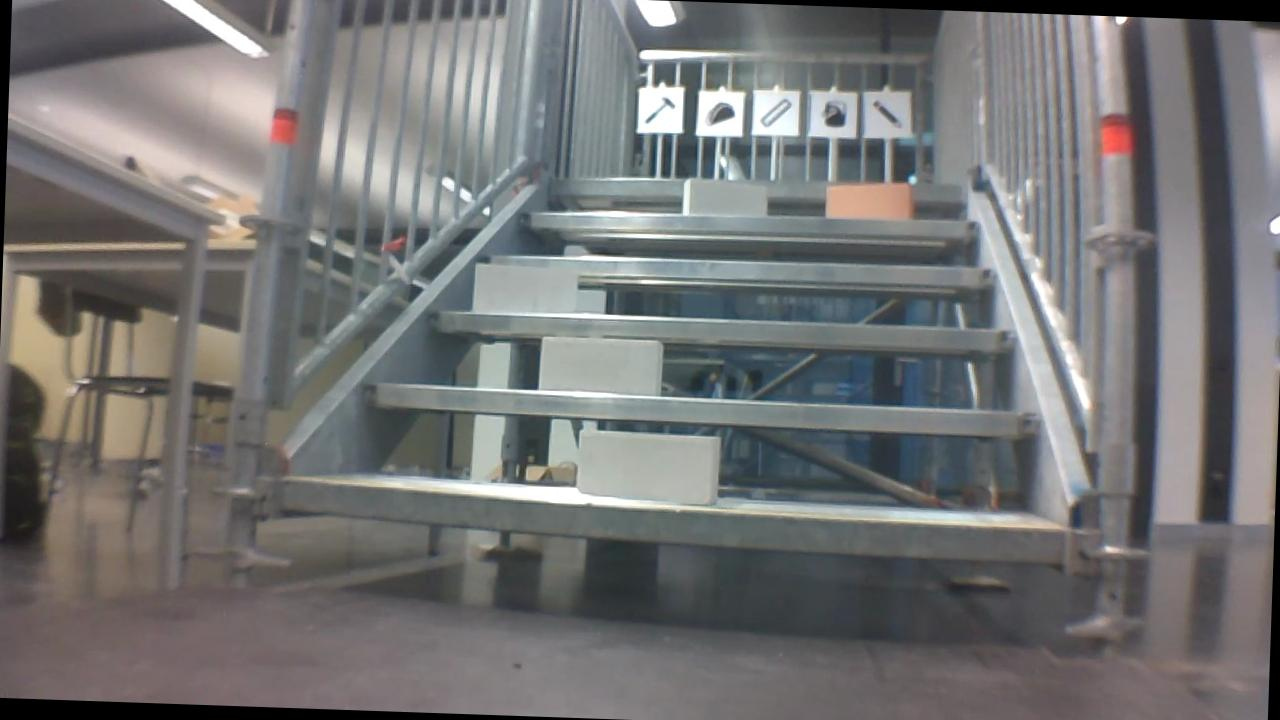brick: (579, 430, 719, 503), (538, 337, 663, 397), (474, 264, 573, 312), (681, 178, 768, 216), (827, 182, 913, 219)
bucket: (819, 96, 855, 131)
edge: (279, 478, 1072, 563), (357, 383, 1039, 435), (426, 309, 1012, 352), (475, 250, 993, 287), (522, 204, 979, 241), (549, 171, 957, 202)
hammer: (639, 89, 678, 130)
pencil: (866, 96, 909, 132)
ruler: (757, 94, 795, 131)
steps: (274, 155, 1085, 580)
taco: (705, 98, 738, 129)
